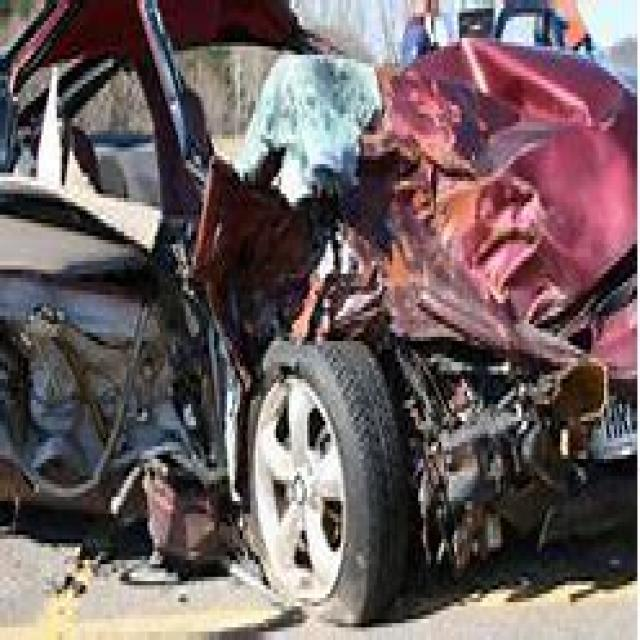Accident: (77, 26, 576, 576)
